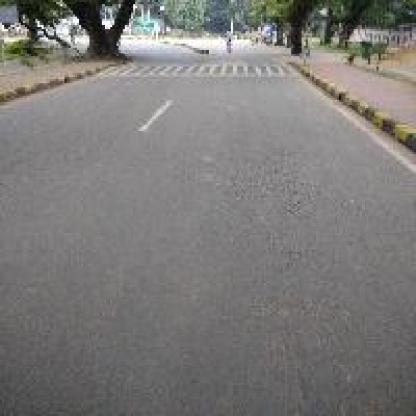Speed Bump: (87, 58, 304, 79)
